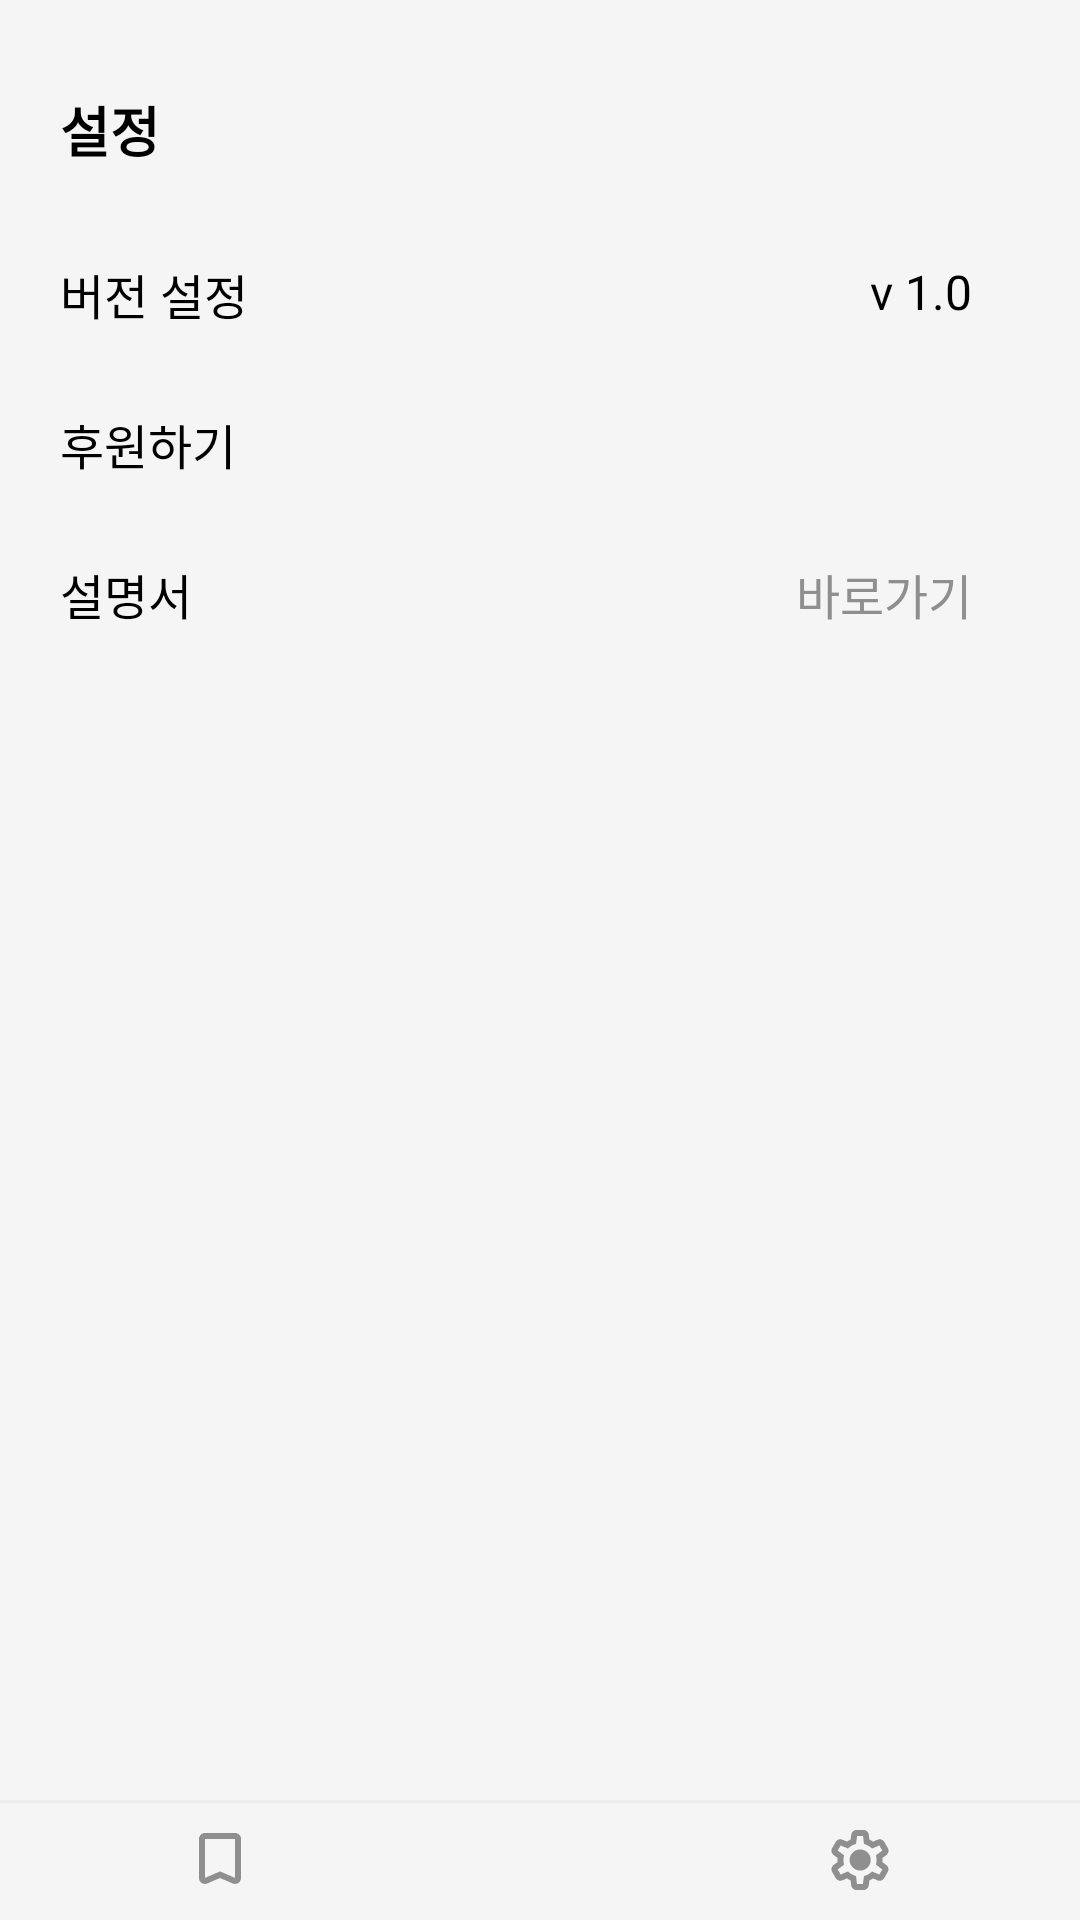

Icons on this 1080px x 1920px Android screen, each with the point to tap as (x=x, y=y):
bookmark: (x=220, y=1858)
settings: (x=860, y=1860)
